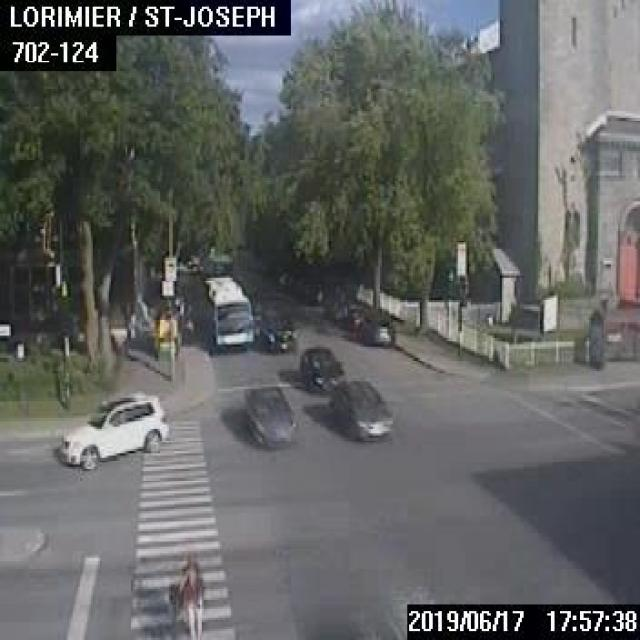bus: (202, 274, 252, 351)
pedestrian: (169, 553, 206, 638)
vehicle: (59, 389, 167, 469), (328, 378, 392, 438), (242, 386, 296, 448), (298, 345, 344, 391), (258, 309, 296, 353), (356, 314, 394, 344)
